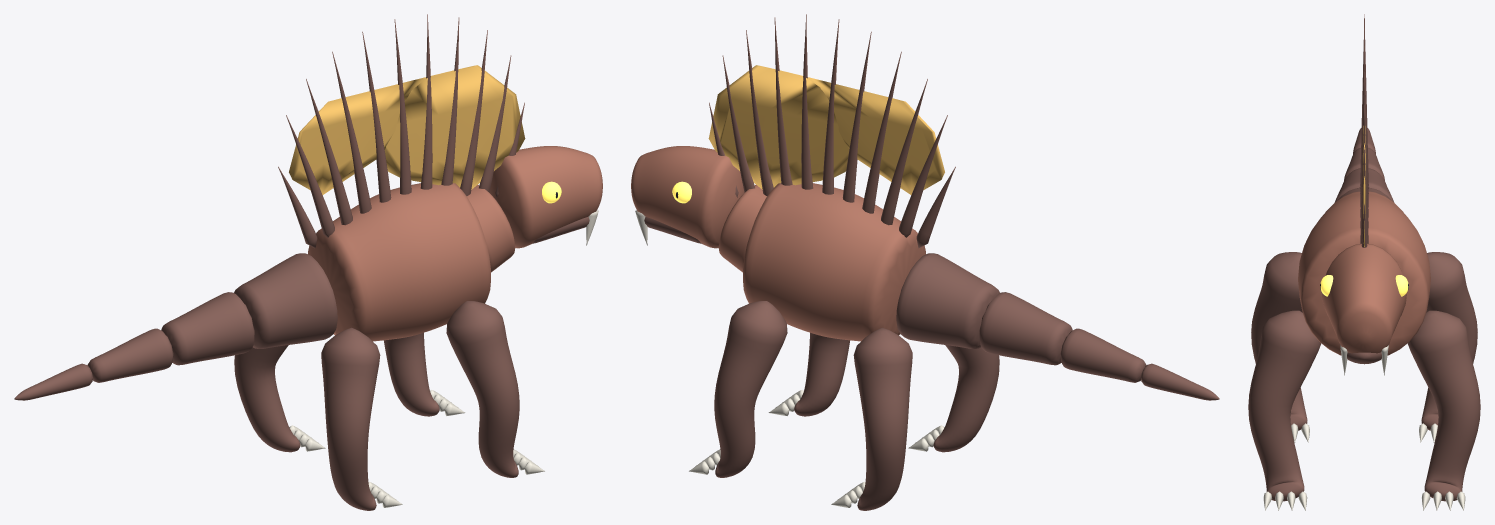
The model's file is boss_dimetrodon.glb.
3 renders of one model, left to right at view 1: azimuth 30°, elevation 25°; view 2: azimuth 150°, elevation 25°; view 3: azimuth 270°, elevation 25°, orthographic.
Parts seen in each view (by area): view 1: Dime_Torso, Dime_SailMembrane, Bone_Leg3_Limb, Dime_Skull, Bone_Leg1_Limb, DimeTailSeg_0, DimeTailSeg_1, Bone_Leg2_Limb, Bone_Leg0_Limb, DimeTailSeg_2, Dime_Neck, DimeTailSeg_3 (+10 smaller); view 2: Dime_Torso, Dime_SailMembrane, Bone_Leg2_Limb, Dime_Skull, Bone_Leg0_Limb, DimeTailSeg_0, DimeTailSeg_1, Bone_Leg3_Limb, Bone_Leg1_Limb, DimeTailSeg_2, Dime_Neck, DimeTailSeg_3 (+10 smaller); view 3: Dime_Torso, Bone_Leg0_Limb, Bone_Leg1_Limb, Dime_Skull, Bone_Leg2_Limb, Bone_Leg3_Limb, DimeTailSeg_1, DimeTailSeg_2, Dime_Jaw, NeuralSpine_2, NeuralSpine_4, NeuralSpine_3 (+2 smaller).
Boxes of the visible parts, bbox=[...] form: Dime_Torso: bbox=[308, 183, 490, 341]; Dime_SailMembrane: bbox=[289, 65, 525, 194]; Bone_Leg3_Limb: bbox=[321, 327, 380, 510]; Dime_Skull: bbox=[489, 146, 602, 248]; Bone_Leg1_Limb: bbox=[446, 301, 519, 477]; DimeTailSeg_0: bbox=[234, 253, 337, 348]; DimeTailSeg_1: bbox=[161, 292, 254, 365]; Bone_Leg2_Limb: bbox=[234, 345, 300, 452]; Bone_Leg0_Limb: bbox=[383, 332, 439, 416]; DimeTailSeg_2: bbox=[87, 328, 173, 382]; Dime_Neck: bbox=[467, 185, 515, 272]; DimeTailSeg_3: bbox=[14, 363, 92, 400]; Dime_Torso: bbox=[743, 183, 925, 341]; Dime_SailMembrane: bbox=[708, 65, 944, 194]; Bone_Leg2_Limb: bbox=[853, 327, 912, 510]; Dime_Skull: bbox=[631, 146, 744, 248]; Bone_Leg0_Limb: bbox=[714, 301, 787, 477]; DimeTailSeg_0: bbox=[896, 253, 999, 348]; DimeTailSeg_1: bbox=[979, 292, 1072, 365]; Bone_Leg3_Limb: bbox=[933, 345, 999, 452]; Bone_Leg1_Limb: bbox=[794, 332, 850, 416]; DimeTailSeg_2: bbox=[1060, 328, 1146, 382]; Dime_Neck: bbox=[718, 185, 766, 272]; DimeTailSeg_3: bbox=[1141, 363, 1219, 400]; Dime_Torso: bbox=[1298, 191, 1430, 355]; Bone_Leg0_Limb: bbox=[1407, 310, 1480, 501]; Bone_Leg1_Limb: bbox=[1248, 310, 1321, 501]; Dime_Skull: bbox=[1322, 243, 1406, 353]; Bone_Leg2_Limb: bbox=[1421, 252, 1477, 430]; Bone_Leg3_Limb: bbox=[1251, 252, 1307, 430]; DimeTailSeg_1: bbox=[1334, 168, 1394, 202]; DimeTailSeg_2: bbox=[1344, 148, 1384, 180]; Dime_Jaw: bbox=[1339, 343, 1389, 364]; NeuralSpine_2: bbox=[1360, 105, 1368, 243]; NeuralSpine_4: bbox=[1360, 46, 1368, 217]; NeuralSpine_3: bbox=[1360, 72, 1368, 227].
Size of the model in its own units: 4.72 by 3.43 by 1.65.
